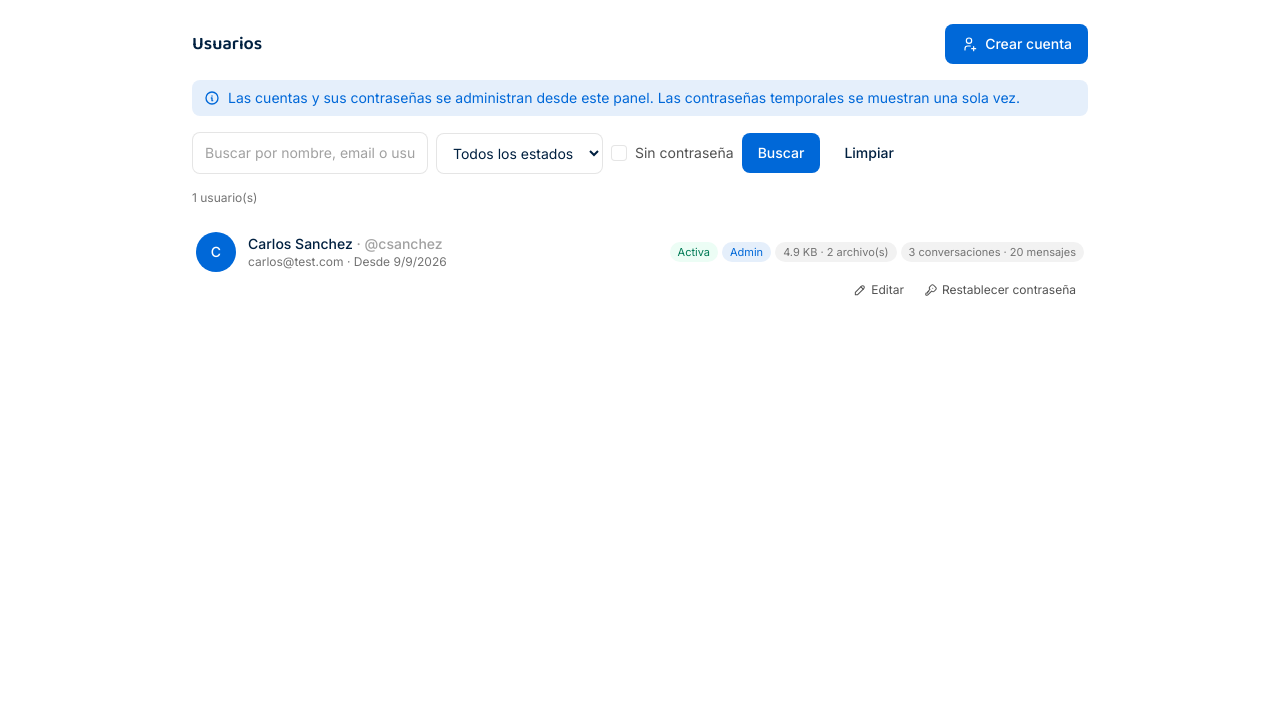
Test: AdminUsersPanel › con cuentas locales › does not let the admin remove their own admin role
Click the button "Editar" at (879, 290), box x1=845 y1=278 x2=912 y2=302
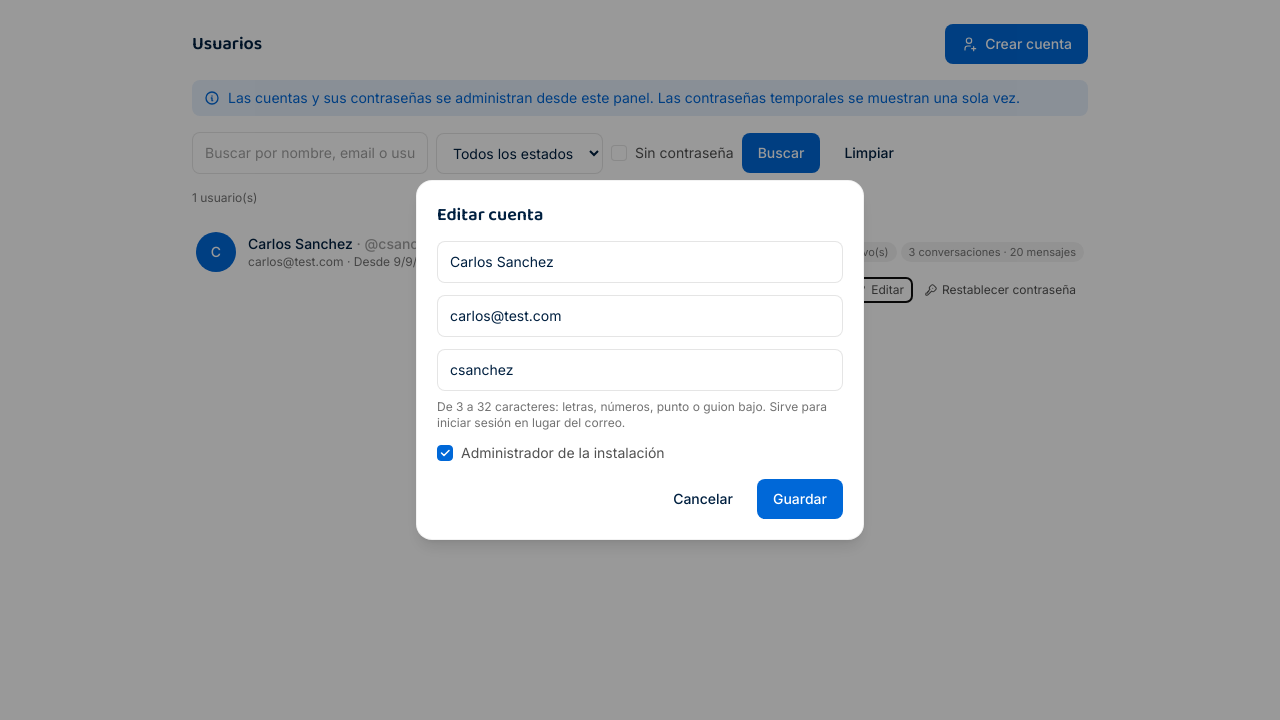
expect the checkbox labelled "Administrador de la instalación" is disabled: met, box x1=437 y1=445 x2=453 y2=461
